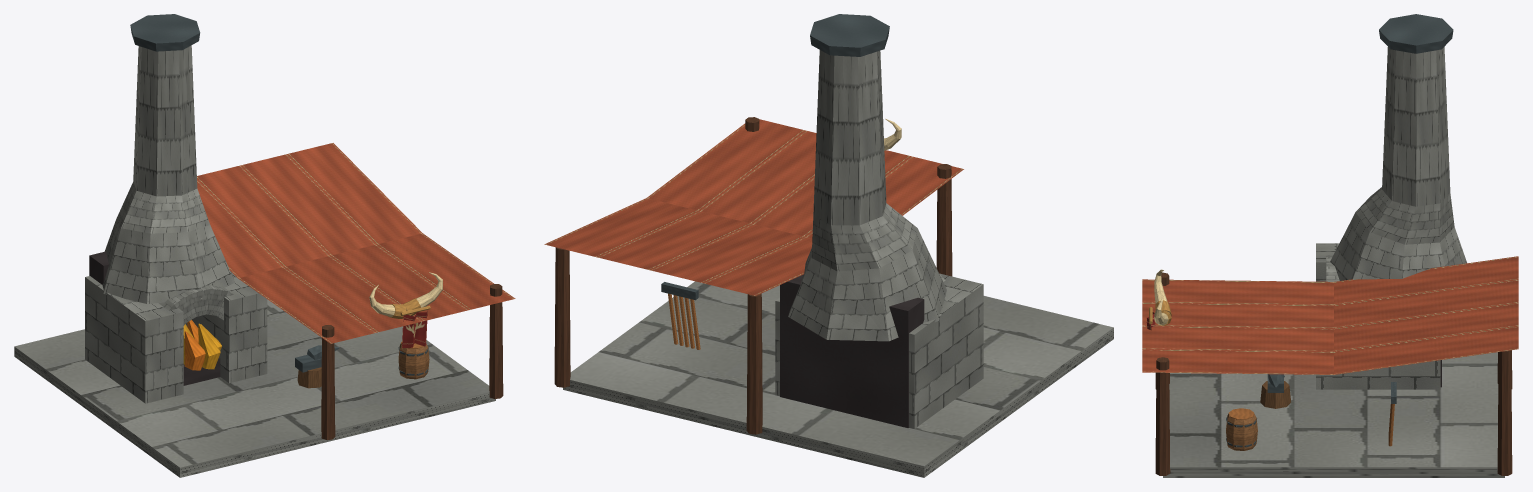
The model's file is forge.glb.
The picture shows the model from 3 angles, left to right: view 1: azimuth 30°, elevation 25°; view 2: azimuth 150°, elevation 25°; view 3: azimuth 270°, elevation 25°; orthographic projection. The views are drawn at different scales.
Visible parts, largest first — view 1: forge_F4; view 2: forge_F4; view 3: forge_F4.
Part boxes in pixels (x1,y1,x2,y2): forge_F4: [14, 14, 515, 477]; forge_F4: [544, 14, 1113, 477]; forge_F4: [1142, 14, 1518, 477].
Size of the model in its own units: 11.34 by 11.08 by 11.
Materials: 1 (1 with a texture image).
